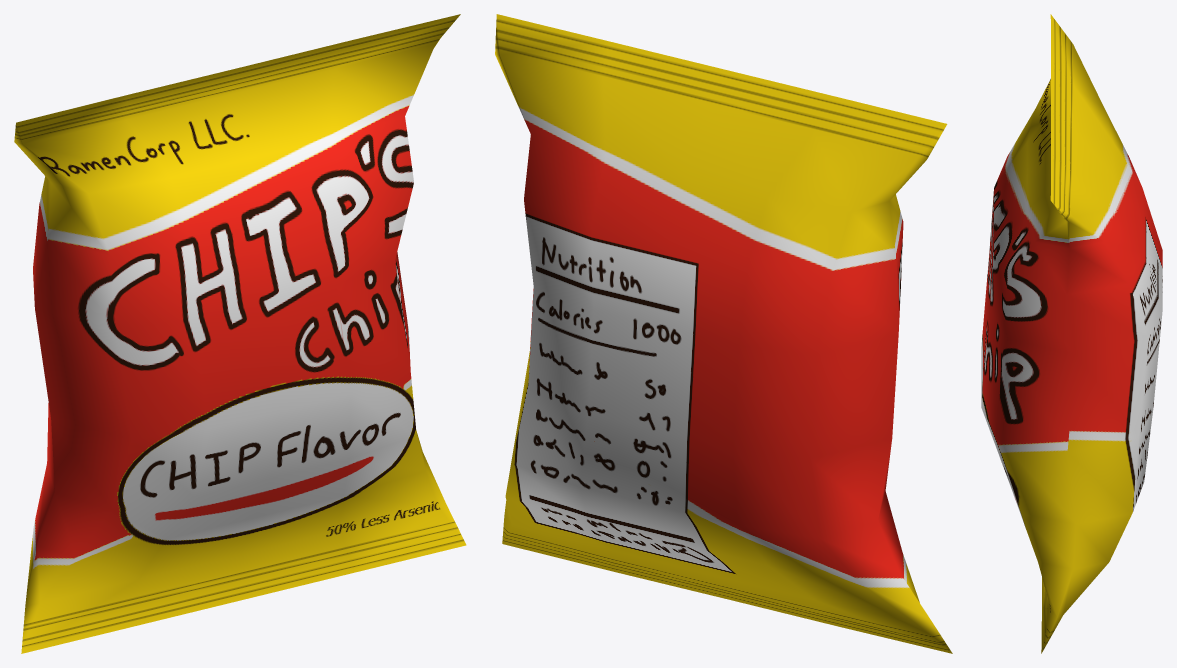
File: chips.fbx
3 views of the same model, side by side, from view 1: azimuth 30°, elevation 25°; view 2: azimuth 150°, elevation 25°; view 3: azimuth 270°, elevation 25° (orthographic). The views are drawn at different scales.
Parts seen in each view (by area): view 1: Chips; view 2: Chips; view 3: Chips.
Boxes of the visible parts, left/top/right/bottom form: Chips: left=14, top=14, right=466, bottom=653; Chips: left=495, top=14, right=952, bottom=653; Chips: left=981, top=14, right=1162, bottom=653.
Bounding box in the file's own units: 172 × 195 × 70.73.
Materials: 1 (1 with a texture image).
